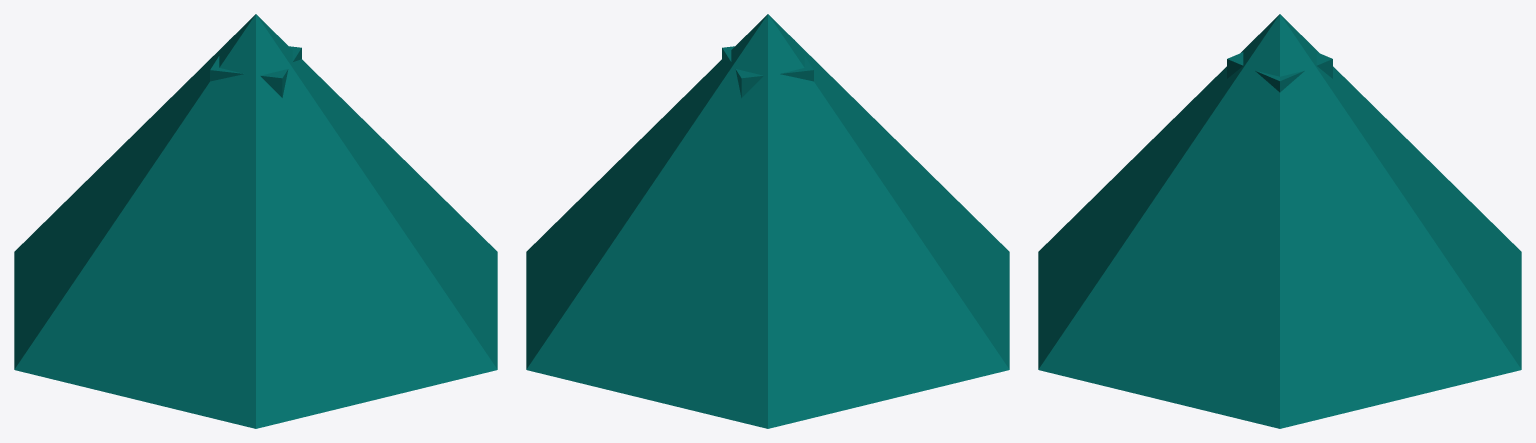
Rendered from CeilingLight.fbx.
3 views of the same model, side by side, from view 1: azimuth 30°, elevation 25°; view 2: azimuth 150°, elevation 25°; view 3: azimuth 270°, elevation 25° (orthographic).
Visible parts, largest first — view 1: CeilingLight; view 2: CeilingLight; view 3: CeilingLight.
Part boxes in pixels (box(x1,y1,x2,y2)): CeilingLight: box(14, 14, 497, 428); CeilingLight: box(526, 14, 1009, 428); CeilingLight: box(1038, 14, 1521, 428).
Size of the model in its own units: 2.37 by 1.39 by 2.05.
